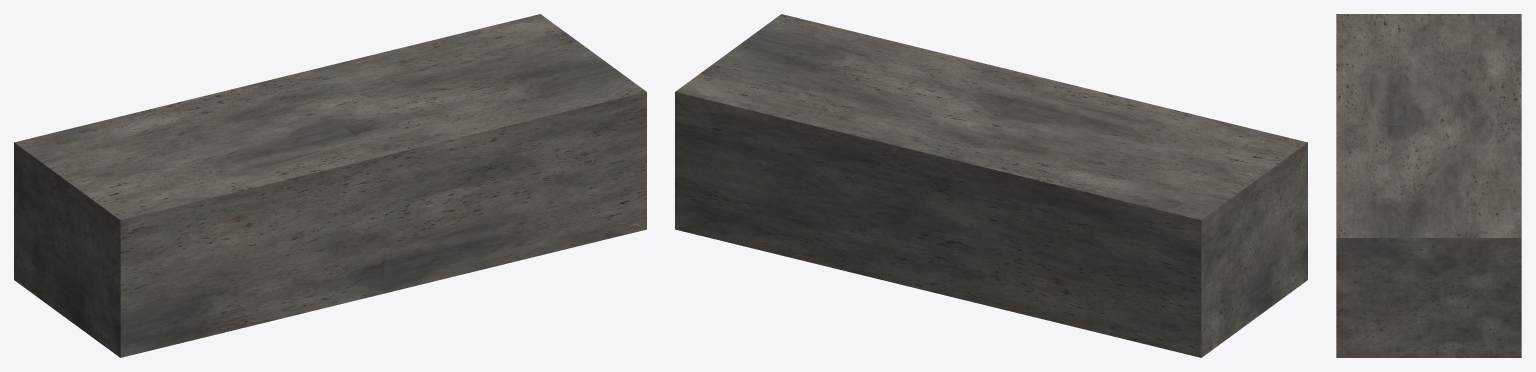
The model's file is sidewalk_01.glb.
3 renders of one model, left to right at view 1: azimuth 30°, elevation 25°; view 2: azimuth 150°, elevation 25°; view 3: azimuth 270°, elevation 25°, orthographic. The views are drawn at different scales.
Visible parts, largest first — view 1: Cube; view 2: Cube; view 3: Cube.
Part boxes in pixels (x1,y1,x2,y2): Cube: (14,14,646,357); Cube: (675,14,1307,357); Cube: (1336,14,1521,357).
Size of the model in its own units: 2 by 0.5 by 0.7.
1 material, 1 textured.
